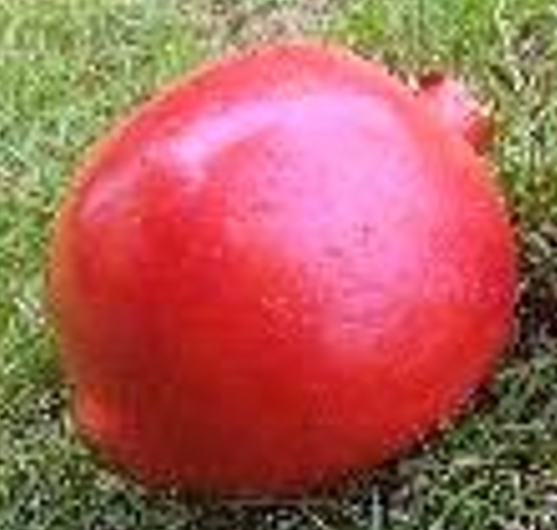pomegranate_A: (46, 38, 520, 502)
